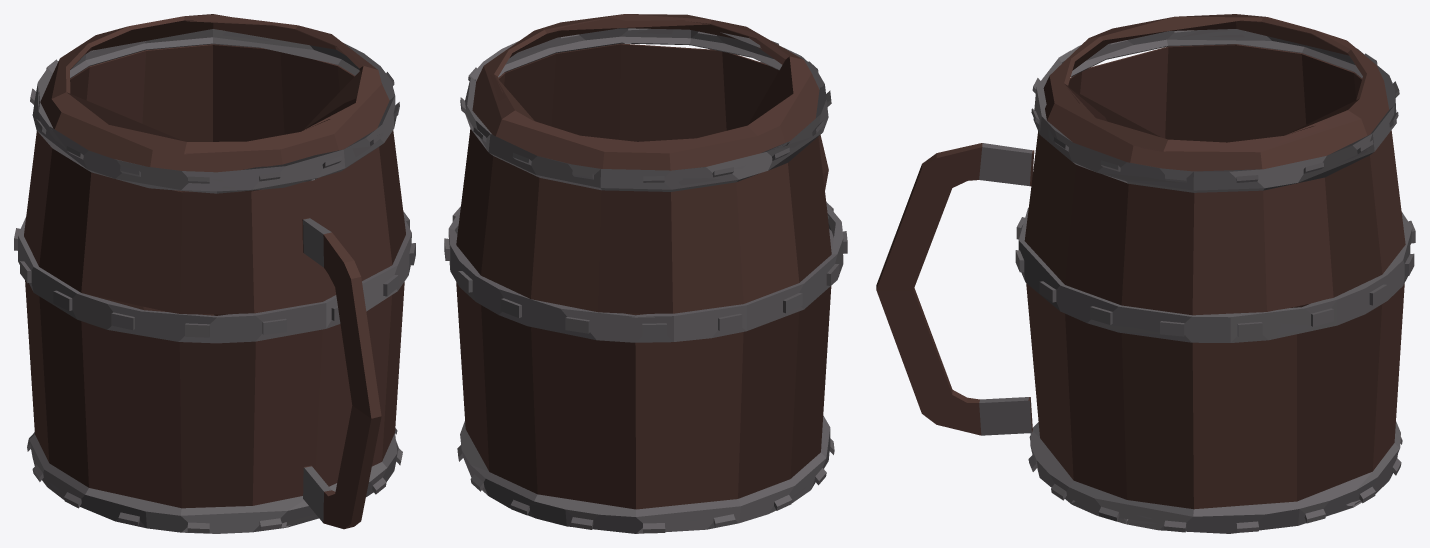
File: caneca.fbx
3 views of the same model, side by side, from view 1: azimuth 30°, elevation 25°; view 2: azimuth 150°, elevation 25°; view 3: azimuth 270°, elevation 25° (orthographic).
Parts seen in each view (by area): view 1: Caneca; view 2: Caneca; view 3: Caneca.
Part boxes in pixels (left/top/right/bottom): Caneca: left=14, top=14, right=415, bottom=533; Caneca: left=444, top=14, right=847, bottom=533; Caneca: left=876, top=14, right=1415, bottom=533.
Size of the model in its own units: 16.64 by 17.37 by 22.43.
